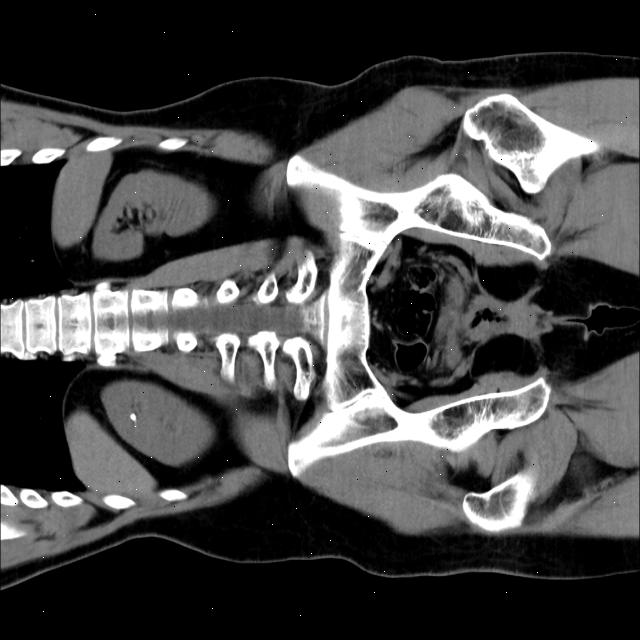kidneystone: (130, 412, 136, 420)
